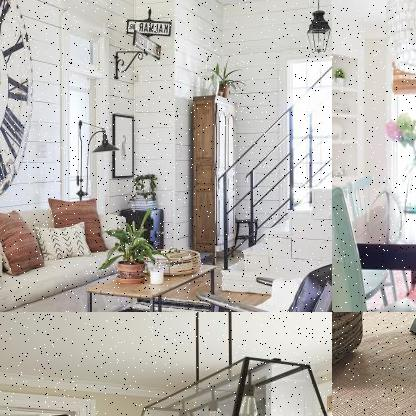table: (332, 181, 415, 311), (84, 257, 228, 311), (356, 312, 415, 394)
